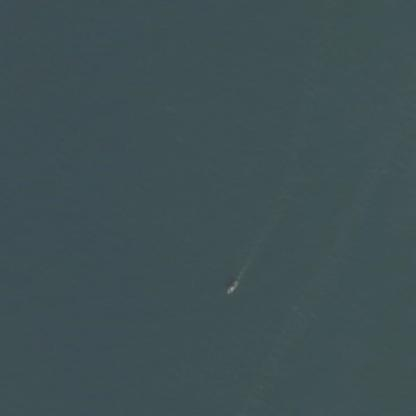ship: (222, 274, 242, 300)
